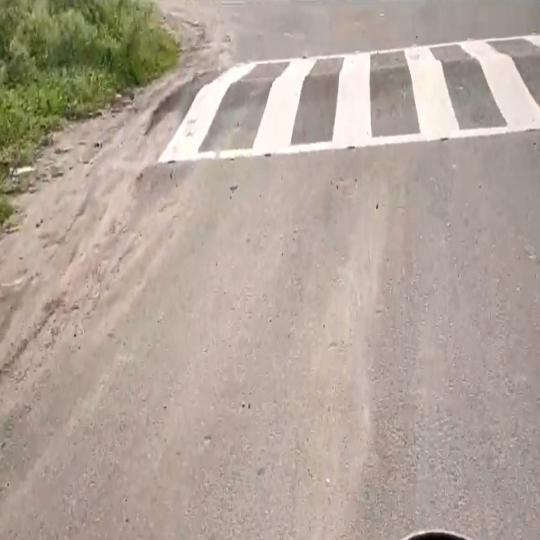Speed Bump: (136, 32, 540, 160)
